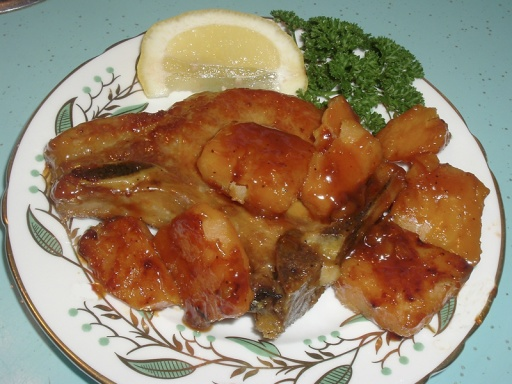background: (32, 4, 392, 205)
